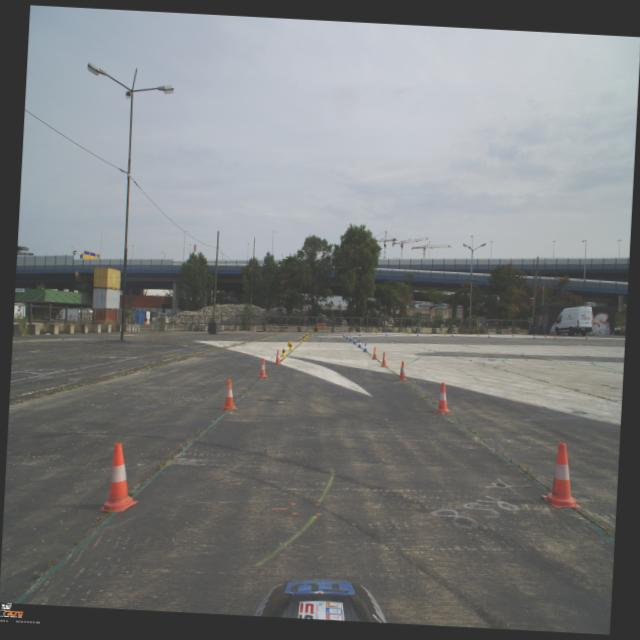blue_cone: (363, 343, 368, 353), (358, 340, 362, 348), (352, 338, 357, 344), (343, 332, 346, 338), (358, 332, 362, 336), (451, 332, 454, 337), (533, 334, 536, 339), (350, 335, 352, 341), (416, 332, 419, 336), (346, 334, 348, 339), (386, 332, 388, 336), (488, 334, 490, 338)
orange_cone: (96, 440, 142, 514), (541, 442, 585, 509), (220, 379, 240, 411), (433, 382, 453, 414), (397, 361, 409, 382), (257, 358, 269, 378), (379, 352, 388, 368), (273, 350, 283, 364), (372, 347, 378, 360), (554, 335, 558, 340), (586, 334, 588, 340)
yellow_cone: (280, 346, 288, 358), (288, 341, 294, 352), (288, 340, 292, 348), (299, 336, 303, 344), (305, 333, 308, 339), (303, 334, 306, 340), (349, 330, 352, 336), (544, 334, 548, 338), (311, 331, 314, 336), (306, 332, 308, 338), (328, 330, 330, 336), (408, 331, 411, 335), (477, 333, 480, 337), (512, 333, 514, 338), (376, 331, 378, 335), (444, 332, 446, 336)
